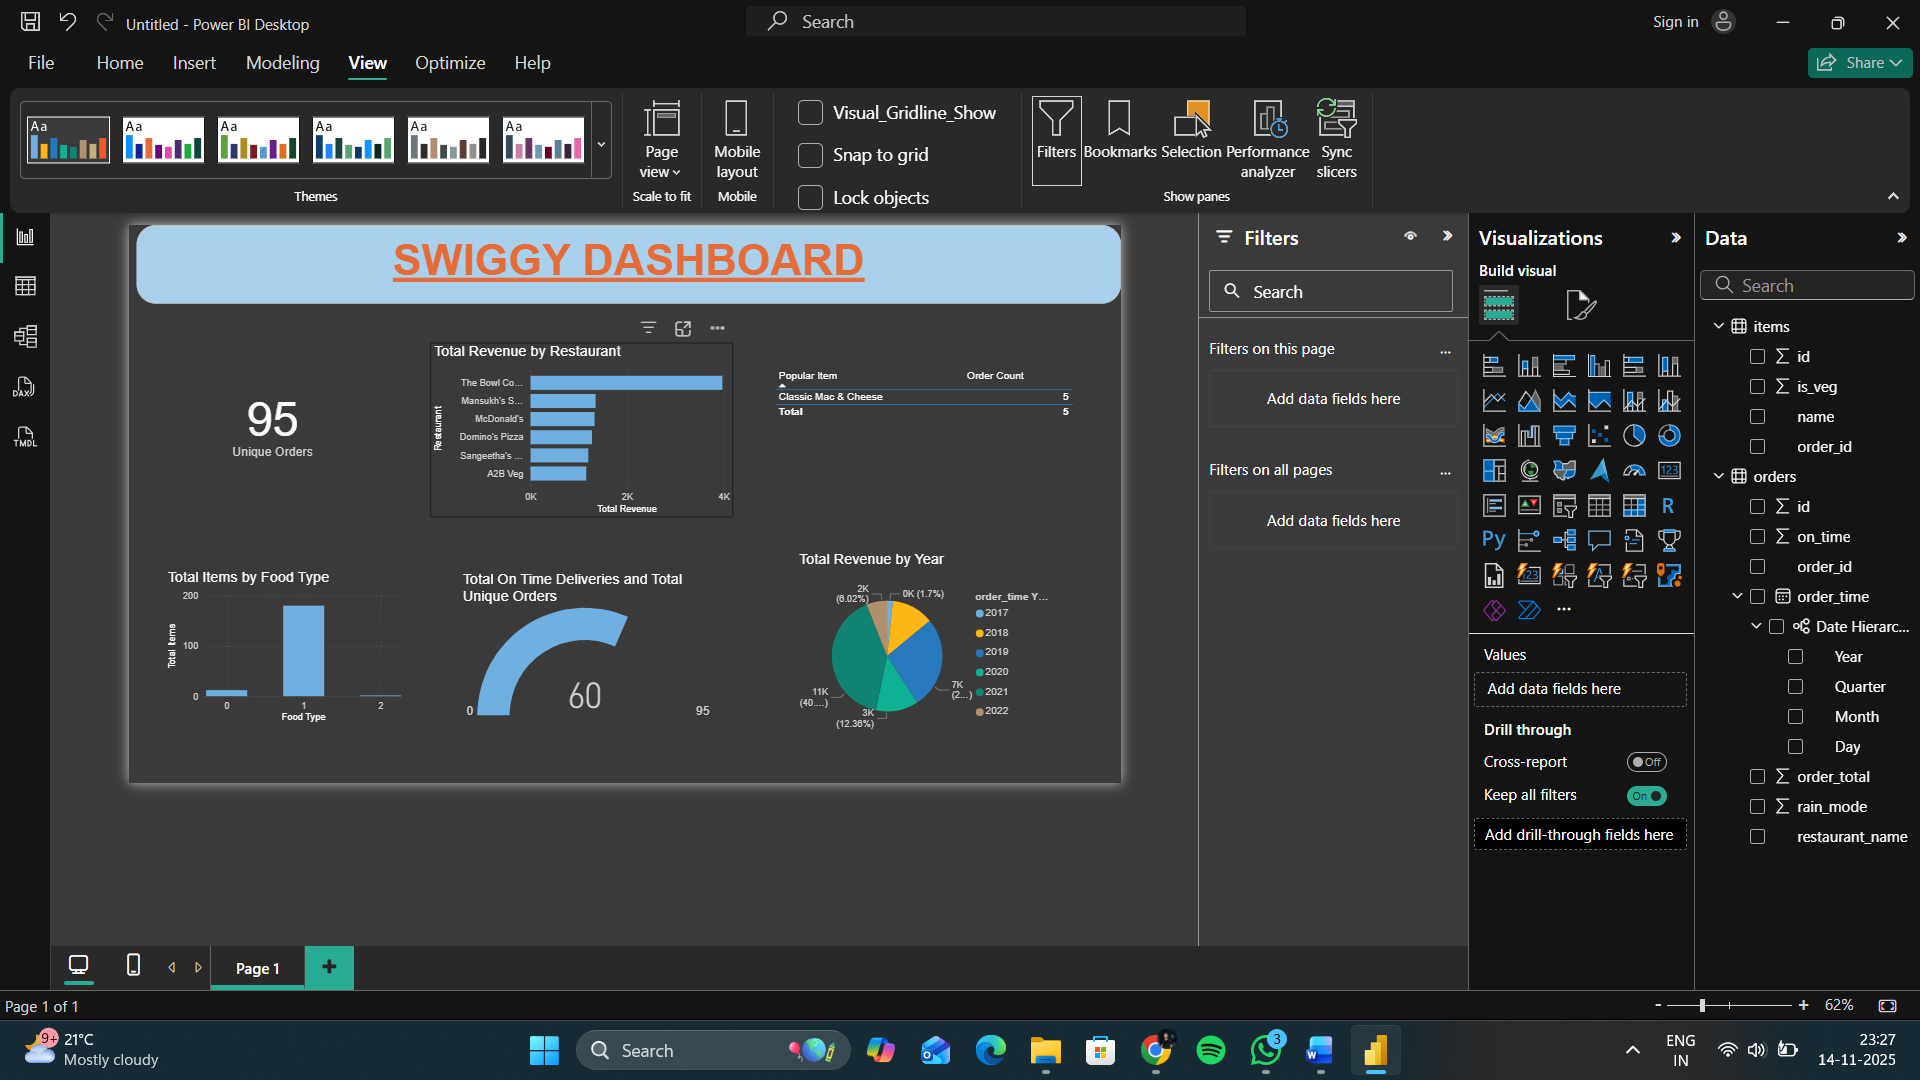

Layout of this report page (visuals, bound fields, positions):
{"tool":"powerbi","page":{"name":"Page 1","canvas":[1280,720],"ordinal":0},"visuals":[{"type":"textbox","box":[9.6,0,1270.7,101.5],"z":0},{"type":"card","fields":{"Values":["Count(orders.order_id)"]},"box":[45.2,180.6,280.6,148.4],"z":1000},{"type":"clusteredBarChart","fields":{"Category":["orders.restaurant_name"],"Y":["Sum(orders.order_total)"]},"box":[388.7,151.6,391.9,225.8],"z":2000},{"type":"tableEx","fields":{"Values":["items.name","CountNonNull(items.name)"]},"box":[827.4,180.6,395.2,179],"z":3000},{"type":"gauge","fields":{"Y":["Sum(orders.on_time)"],"MaxValue":["Count(orders.order_id)"]},"box":[425.8,446.8,333.9,196.8],"z":4000},{"type":"columnChart","fields":{"Category":["items.is_veg"],"Y":["CountNonNull(items.name)"]},"box":[45.2,443.5,311.3,203.2],"z":5000},{"type":"pieChart","fields":{"Y":["Sum(orders.order_total)"],"Category":["orders.order_time.Variation.Date Hierarchy.Year"]},"box":[859.7,421,340.3,250],"z":6000}]}

Visuals, with their boxes on the page's 1280x720 design canvas (x1, y1, x2, y2). These are canvas units, not pixel positions in the 1920x1080 screenshot, which may show the page scaled, cropped or inside an application window:
textbox: {"left": 10, "top": 0, "right": 1280, "bottom": 102}
card - Count(orders.order_id): {"left": 45, "top": 181, "right": 326, "bottom": 329}
clusteredBarChart - orders.restaurant_name x Sum(orders.order_total): {"left": 389, "top": 152, "right": 781, "bottom": 377}
tableEx - items.name x CountNonNull(items.name): {"left": 827, "top": 181, "right": 1223, "bottom": 360}
gauge - Sum(orders.on_time) x Count(orders.order_id): {"left": 426, "top": 447, "right": 760, "bottom": 644}
columnChart - items.is_veg x CountNonNull(items.name): {"left": 45, "top": 444, "right": 356, "bottom": 647}
pieChart - Sum(orders.order_total) x orders.order_time.Variation.Date Hierarchy.Year: {"left": 860, "top": 421, "right": 1200, "bottom": 671}
